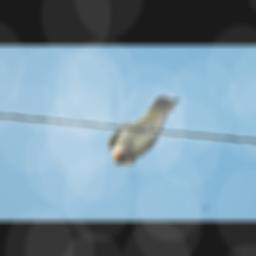Swallow: (107, 96, 182, 168)
